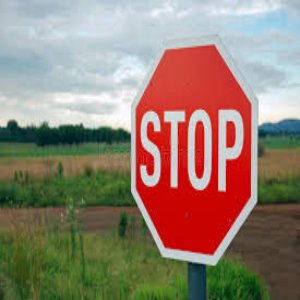STOP_SIGN: (129, 33, 258, 267)
